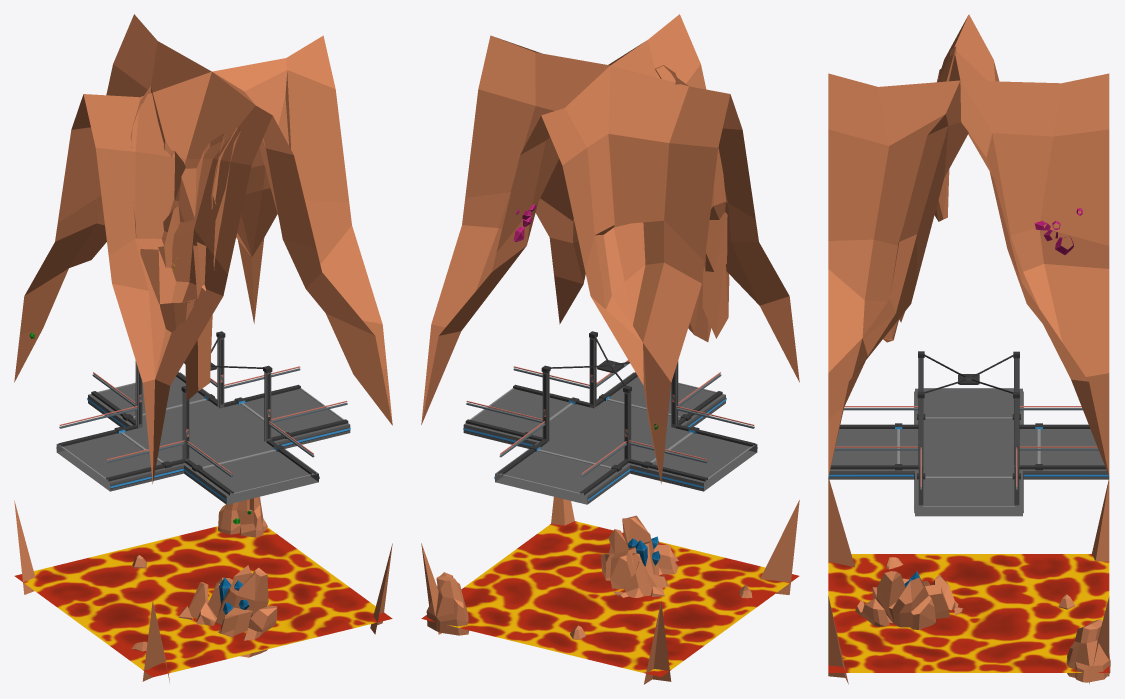
Rendered from Cavern_Cross_Tunnel.fbx.
3 views of the same model, side by side, from view 1: azimuth 30°, elevation 25°; view 2: azimuth 150°, elevation 25°; view 3: azimuth 270°, elevation 25° (orthographic).
Visible parts, largest first — view 1: Cavern_Cross_Tunnel_S, Cavern_Cross_Tunnel, Cavern_Cross_Tunnel_W, Cavern_Cross_Tunnel_Walkway, Cavern_Cross_Tunnel_N, Cavern_Cross_Tunnel_E; view 2: Cavern_Cross_Tunnel_N, Cavern_Cross_Tunnel, Cavern_Cross_Tunnel_Walkway, Cavern_Cross_Tunnel_W, Cavern_Cross_Tunnel_S, Cavern_Cross_Tunnel_E; view 3: Cavern_Cross_Tunnel_E, Cavern_Cross_Tunnel, Cavern_Cross_Tunnel_Walkway, Cavern_Cross_Tunnel_S, Cavern_Cross_Tunnel_N, Cavern_Cross_Tunnel_W.
Boxes of the visible parts, left/top/right/bottom form: Cavern_Cross_Tunnel_S: left=83, top=35, right=392, bottom=481; Cavern_Cross_Tunnel: left=14, top=496, right=392, bottom=682; Cavern_Cross_Tunnel_W: left=106, top=14, right=272, bottom=483; Cavern_Cross_Tunnel_Walkway: left=56, top=331, right=350, bottom=504; Cavern_Cross_Tunnel_N: left=14, top=94, right=277, bottom=382; Cavern_Cross_Tunnel_E: left=213, top=72, right=392, bottom=425; Cavern_Cross_Tunnel_N: left=421, top=35, right=730, bottom=483; Cavern_Cross_Tunnel: left=421, top=496, right=799, bottom=684; Cavern_Cross_Tunnel_Walkway: left=463, top=331, right=757, bottom=504; Cavern_Cross_Tunnel_W: left=541, top=14, right=729, bottom=477; Cavern_Cross_Tunnel_S: left=496, top=37, right=799, bottom=382; Cavern_Cross_Tunnel_E: left=421, top=42, right=643, bottom=424; Cavern_Cross_Tunnel_E: left=828, top=73, right=1109, bottom=476; Cavern_Cross_Tunnel: left=828, top=479, right=1110, bottom=684; Cavern_Cross_Tunnel_Walkway: left=828, top=351, right=1109, bottom=516; Cavern_Cross_Tunnel_S: left=831, top=16, right=968, bottom=463; Cavern_Cross_Tunnel_N: left=954, top=14, right=1109, bottom=476; Cavern_Cross_Tunnel_W: left=883, top=46, right=956, bottom=342.
Size of the model in its own units: 1321 by 2889 by 1305.
